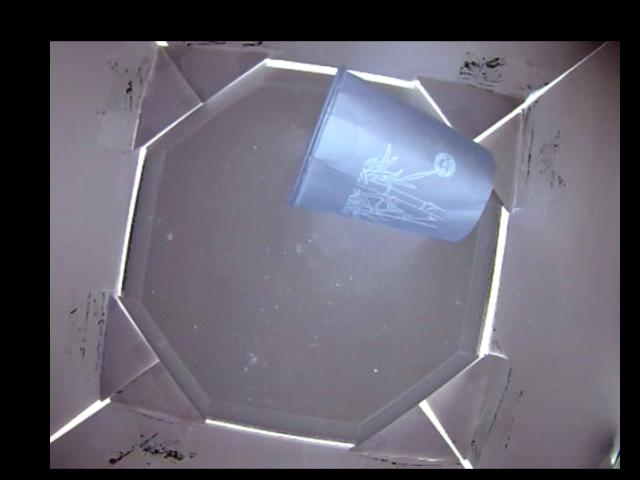Cup: (293, 63, 496, 241)
